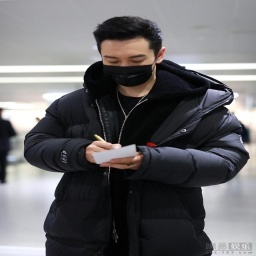correctlyWear: (100, 41, 165, 87)
